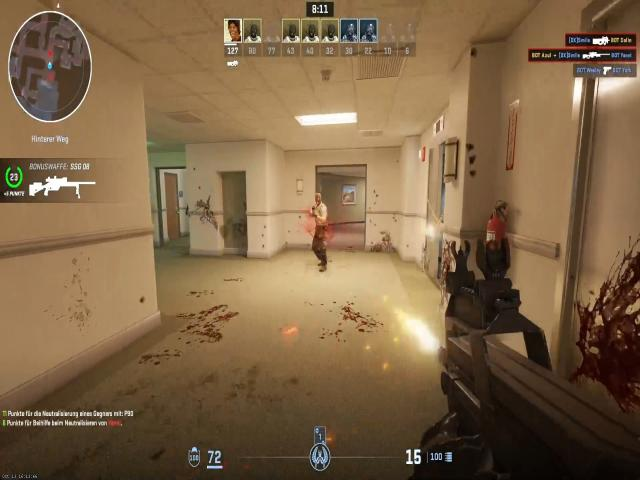T: (310, 190, 330, 238)
T-Head: (313, 193, 324, 213)
